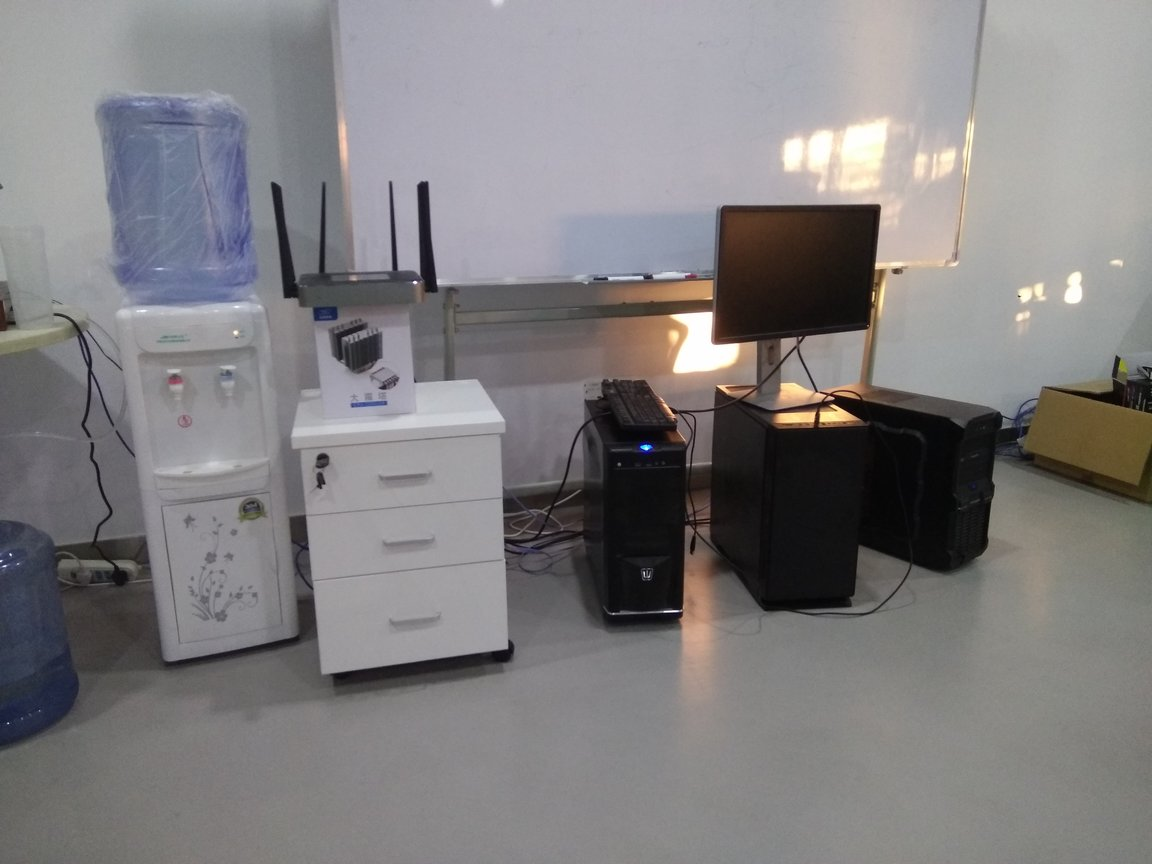computer: (714, 380, 873, 619), (820, 377, 997, 580), (589, 378, 701, 630)
drawer chest: (291, 375, 527, 672)
monitor: (708, 189, 883, 415)
scuttlebutt: (90, 80, 277, 313), (1, 518, 83, 752)
water dispenser: (109, 289, 302, 657)
